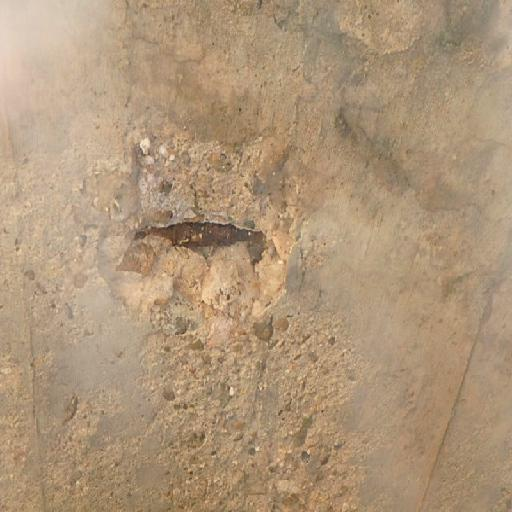exposed_rebar: (136, 222, 264, 262)
